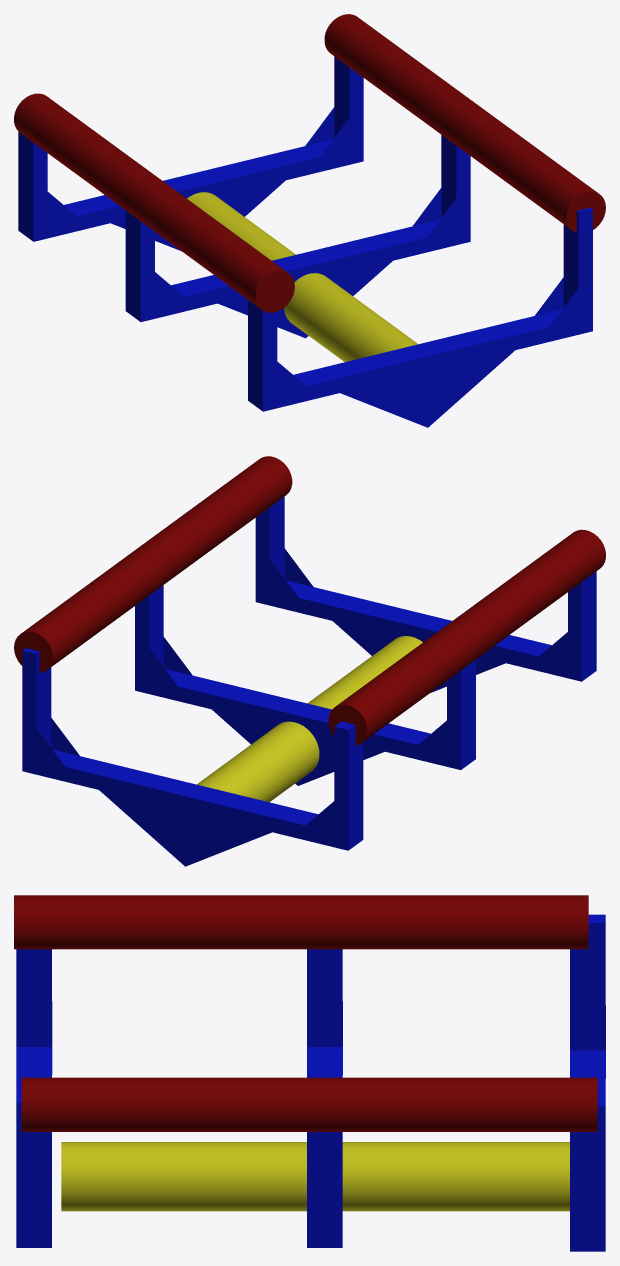
File: oneTrackPiece.fbx
3 views of the same model, one above another, from view 1: azimuth 30°, elevation 25°; view 2: azimuth 150°, elevation 25°; view 3: azimuth 270°, elevation 25° (orthographic). The views are drawn at different scales.
Visible parts, largest first — view 1: right_circle, left_circle, bottum_circle, Cube, Cube_4, Cap_2_4, Cube_2_3, Cube_1, Cube_1_4, Cube_3, Cube_2, Cube_2_5 (+11 smaller); view 2: right_circle, left_circle, Cube_4, bottum_circle, Cube_3, Cube, Cap_1_13, Cube_1_4, Cube_2_5, Cube_1, Cube_1_3, Cube_2 (+8 smaller); view 3: bottum_circle, right_circle, left_circle, Cube_2_5, Cube_2, Cube_1_4, Cube_2_2, Cube_1, Cube_1_2, Cube, Cube_4, Cube_2_3 (+1 smaller).
Part boxes in pixels (x1,y1,x2,y2): right_circle: (324, 14, 597, 229); left_circle: (14, 93, 286, 308); bottum_circle: (187, 192, 417, 361); Cube: (263, 309, 592, 411); Cube_4: (34, 139, 361, 241); Cap_2_4: (338, 347, 518, 427); Cube_2_3: (142, 227, 470, 321); Cube_1: (248, 300, 277, 411); Cube_1_4: (18, 131, 47, 241); Cube_3: (156, 220, 439, 303); Cube_2: (563, 207, 592, 318); Cube_2_5: (334, 56, 363, 164); right_circle: (22, 456, 292, 668); left_circle: (336, 529, 605, 742); Cube_4: (22, 749, 347, 850); bottum_circle: (197, 636, 422, 802); Cube_3: (137, 669, 460, 769); Cube: (257, 580, 581, 681); Cap_1_13: (96, 787, 274, 866); Cube_1_4: (334, 721, 363, 850); Cube_2_5: (22, 648, 51, 774); Cube_1: (568, 571, 596, 681); Cube_1_3: (447, 660, 475, 769); Cube_2: (255, 496, 284, 605); bottum_circle: (61, 1142, 569, 1211); right_circle: (21, 1077, 597, 1131); left_circle: (14, 895, 588, 949); Cube_2_5: (570, 1098, 605, 1251); Cube_2: (16, 1094, 51, 1247); Cube_1_4: (570, 914, 605, 1050); Cube_2_2: (307, 1132, 342, 1247); Cube_1: (16, 949, 51, 1046); Cube_1_2: (307, 949, 342, 1046); Cube: (16, 1047, 51, 1247); Cube_4: (570, 1050, 605, 1251); Cube_2_3: (307, 1047, 342, 1247).
Size of the model in its own units: 371 by 197 by 452.
